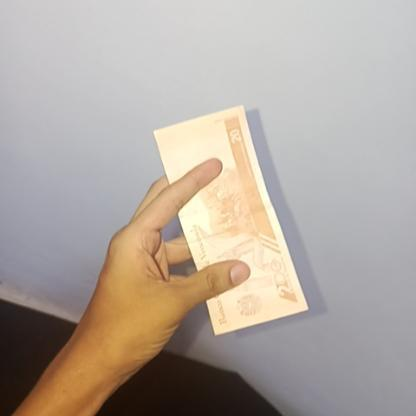twenty-back-vef: (152, 104, 308, 335)
